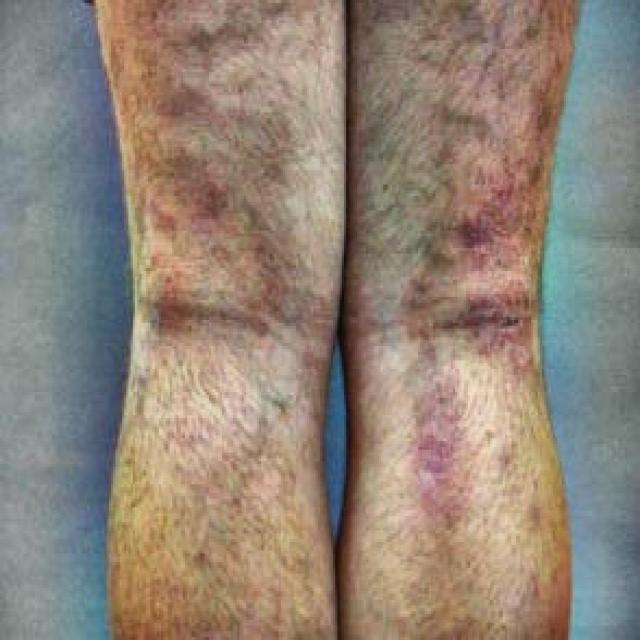Eczema: (128, 23, 554, 595)
